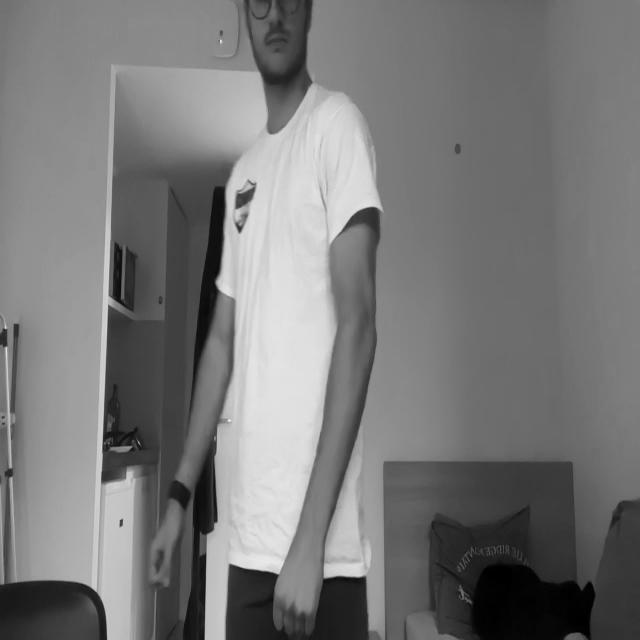elbow: (338, 313, 379, 362), (204, 323, 234, 372)
hand: (270, 540, 322, 635), (148, 498, 185, 588)
shoulder: (319, 102, 374, 193)
